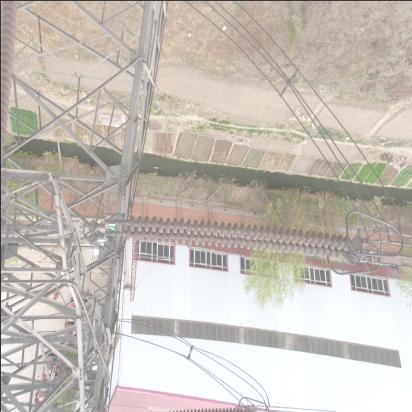insulator: (104, 215, 356, 263)
